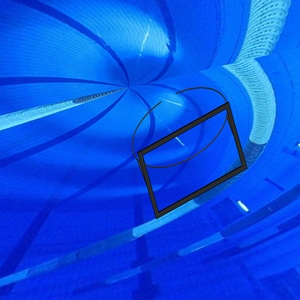circle: (131, 86, 250, 220)
